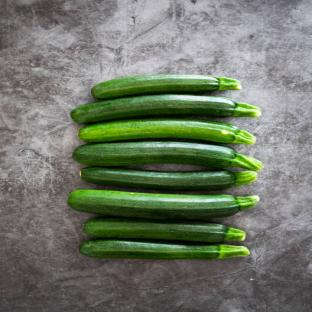Zucchini: (68, 190, 259, 219), (73, 142, 262, 170), (71, 95, 260, 123), (78, 119, 256, 144), (81, 167, 257, 190), (84, 218, 245, 242), (91, 74, 241, 99), (79, 239, 249, 259)
